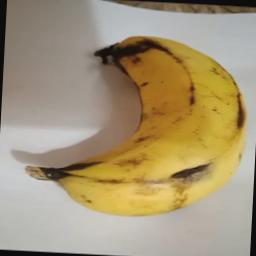Banana Unripe: (38, 28, 251, 218)
